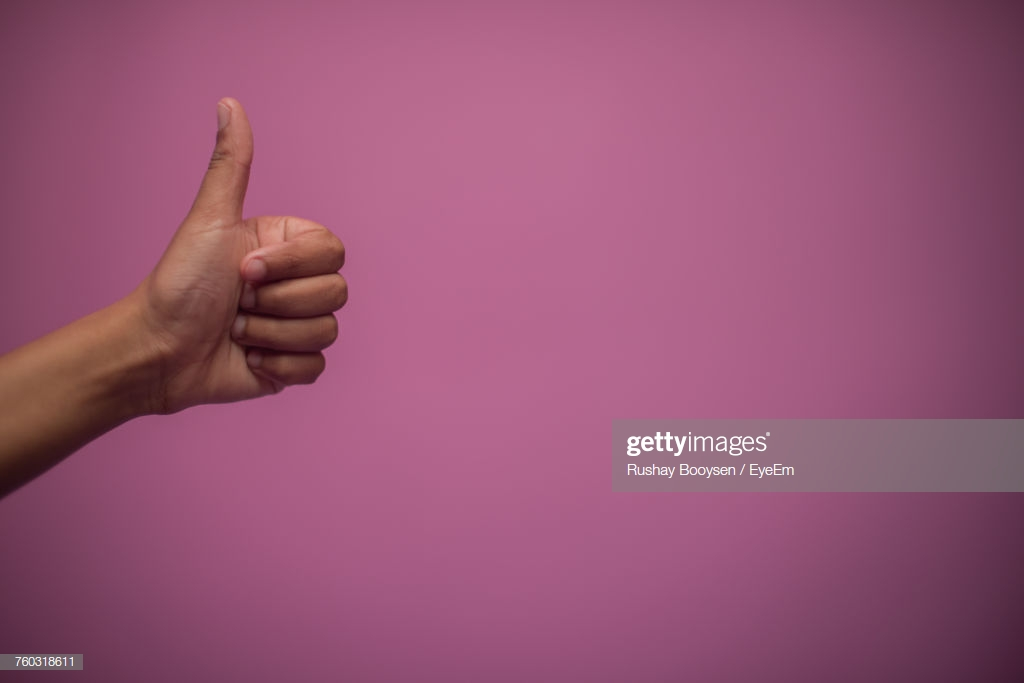thumbsup: (200, 95, 348, 405)
